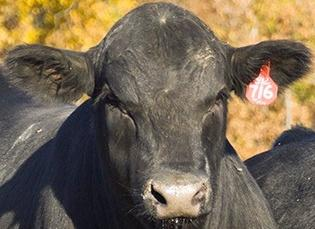muzzles: (135, 173, 215, 221)
